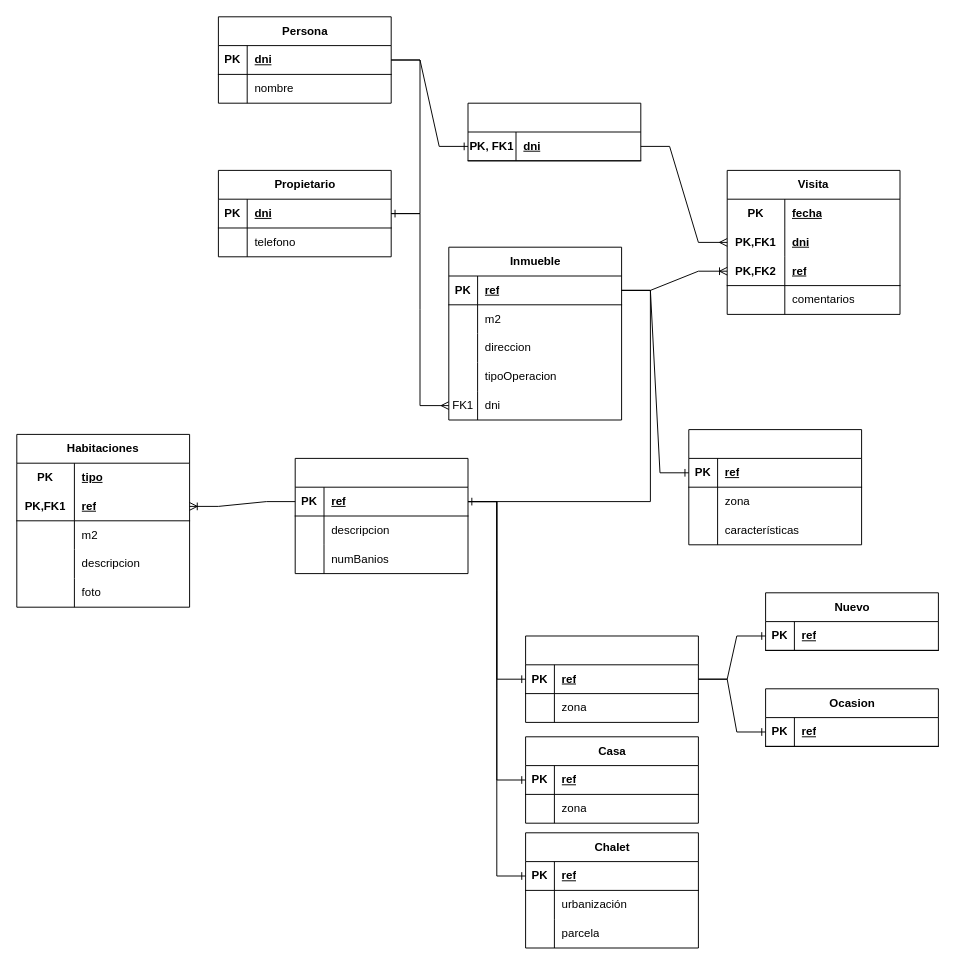
Some shapes in this 955 by 965 pixel diagram are drawn without their labels. The shapes that lost their labels are listed below. From the top down, each one's box as (x1, y1, x2, y2) in pixels, then its label:
(467, 102, 641, 161): cliente
(688, 429, 862, 545): Local
(294, 457, 468, 574): Vivienda
(525, 635, 698, 722): Piso
